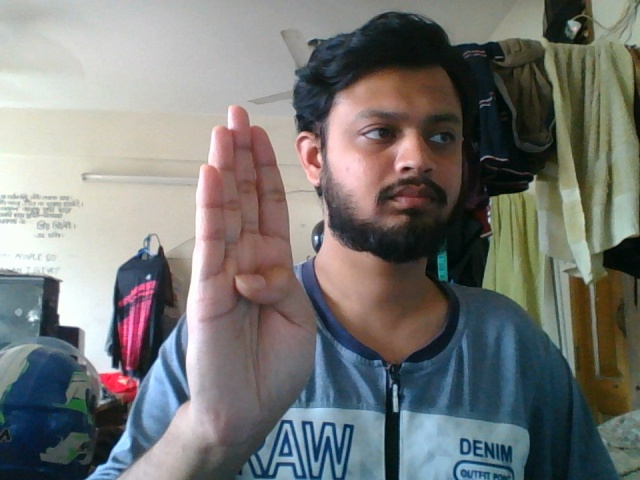ba: (181, 100, 327, 459)
